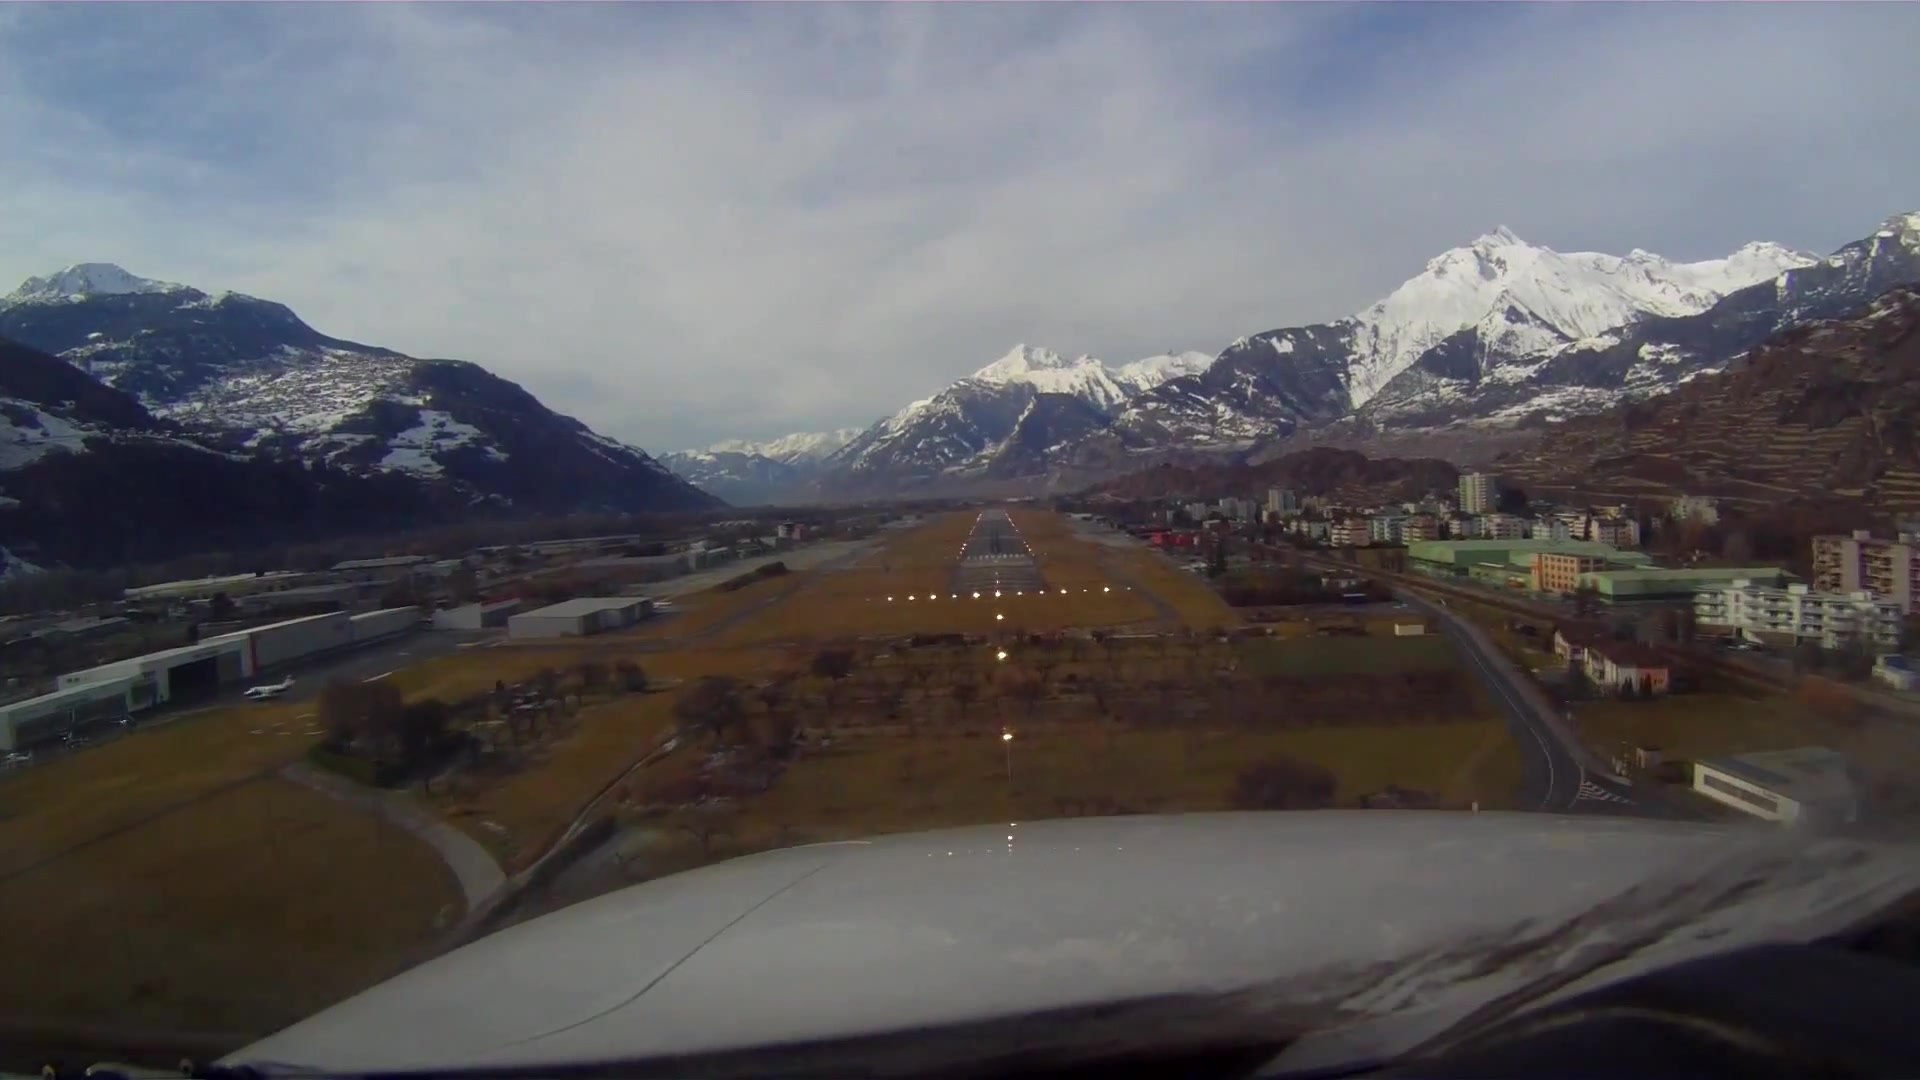runway: (955, 508, 1035, 570)
